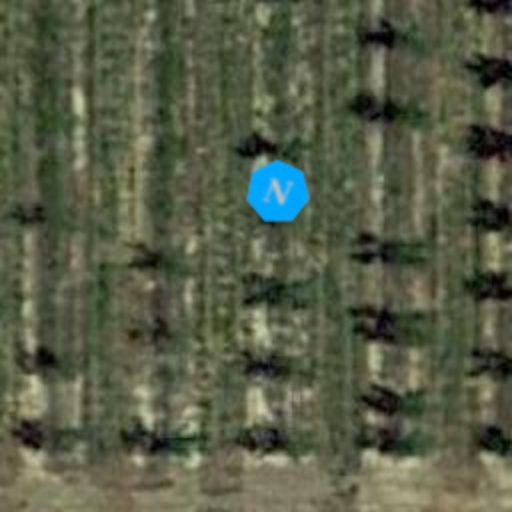heptagon: (238, 152, 318, 232)
